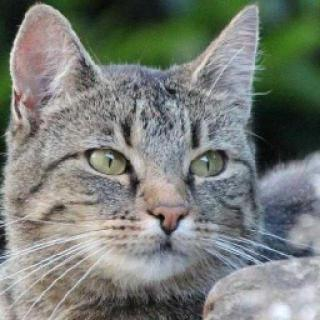cat: (7, 11, 270, 288)
nose: (141, 182, 197, 242)
